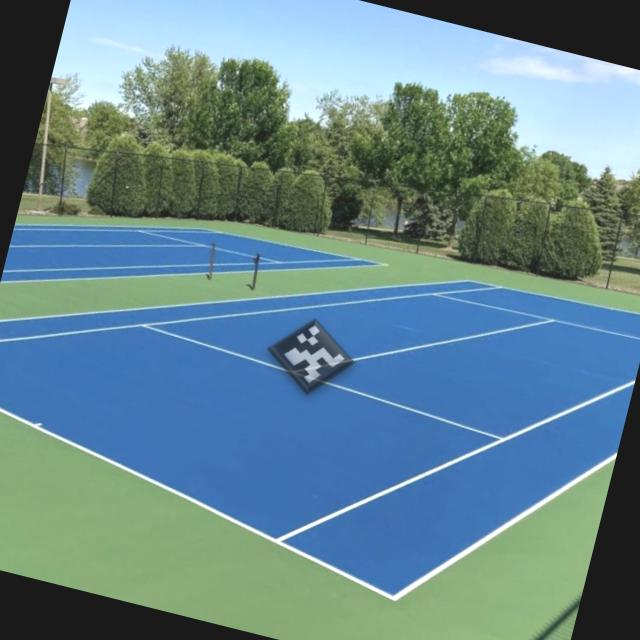marker: (250, 300, 367, 415)
